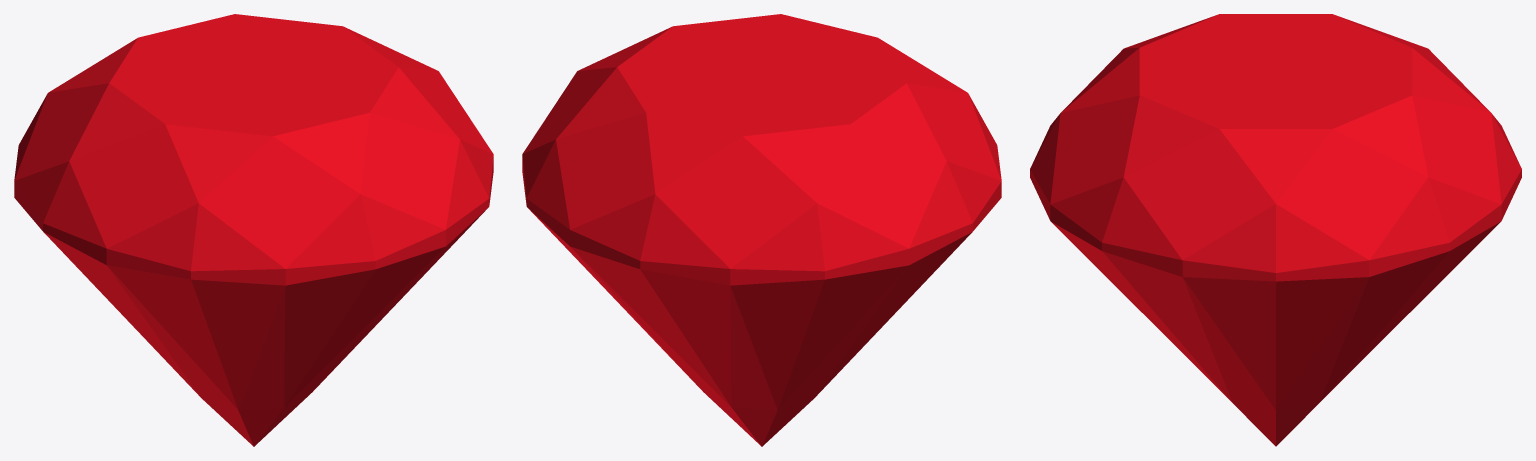
File: RedDiamond.gltf
The picture shows the model from 3 angles, left to right: view 1: azimuth 30°, elevation 25°; view 2: azimuth 150°, elevation 25°; view 3: azimuth 270°, elevation 25°; orthographic projection.
Parts seen in each view (by area): view 1: Diamond2; view 2: Diamond2; view 3: Diamond2.
Boxes of the visible parts, x1=… form: Diamond2: x1=14, y1=14, x2=493, y2=446; Diamond2: x1=522, y1=14, x2=1001, y2=446; Diamond2: x1=1030, y1=14, x2=1521, y2=446.
Bounding box in the file's own units: 0.3503 × 0.295 × 0.3503.
